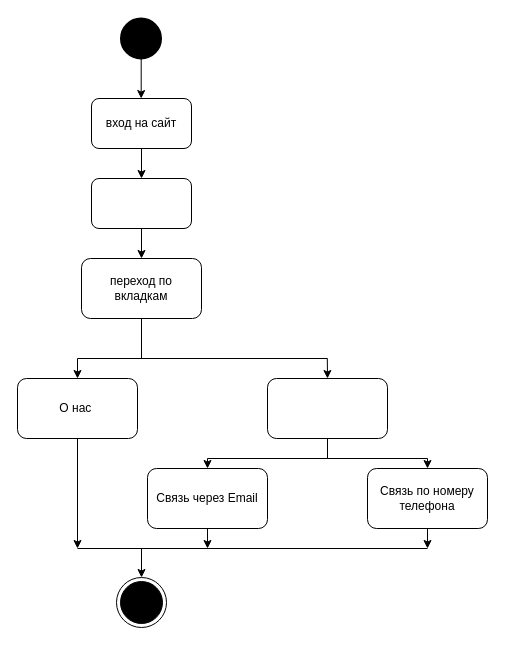
Image size: 505x645. Some labels were removed from this diagram. Each missing label, with the box of its shape:
просмотр главной сстраницы: (90, 178, 192, 228)
Связь с нами: (266, 378, 388, 438)
